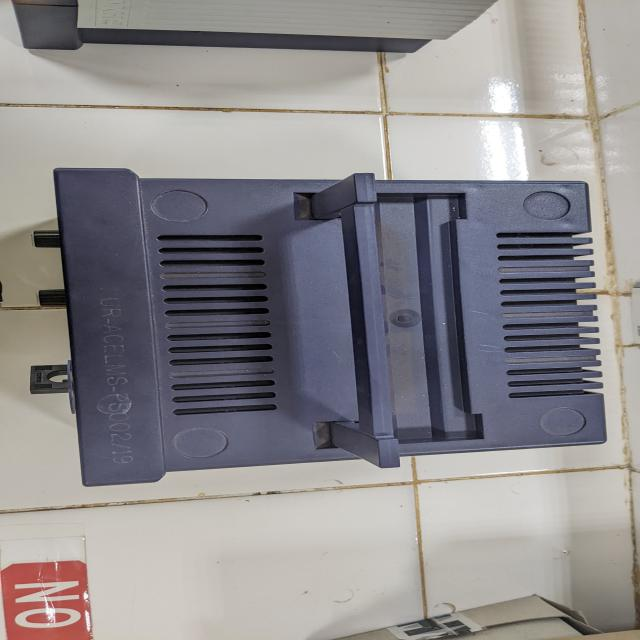Netzgerat Universal Power Supply: (7, 144, 627, 502)
